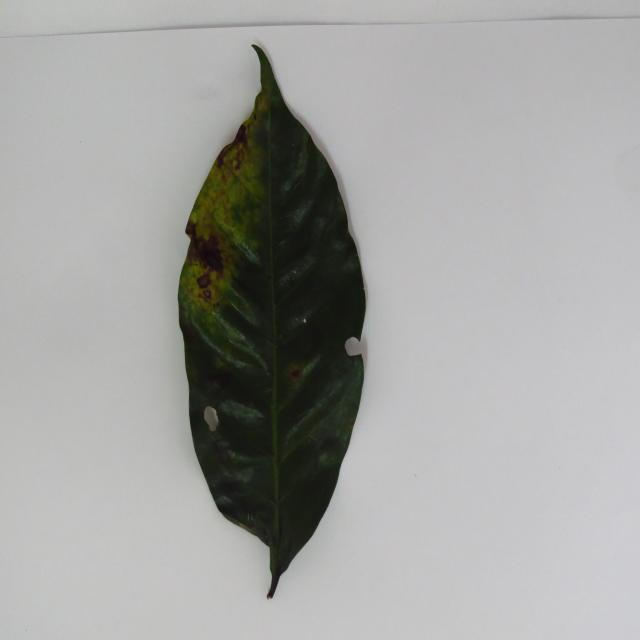DeficienciaNutricional-Potasio: (179, 47, 365, 598)
